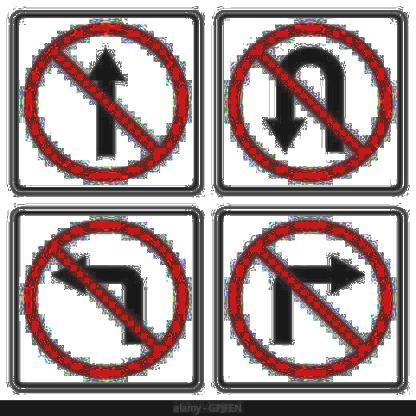No left turn: (11, 205, 206, 382)
